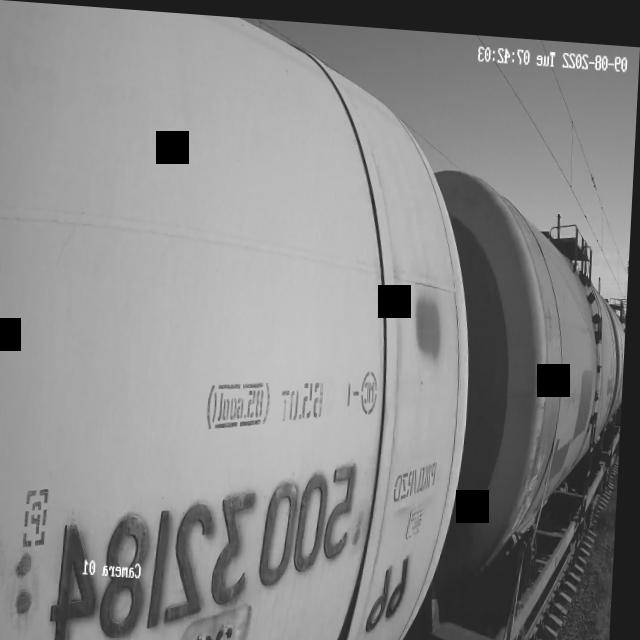tank: (0, 0, 494, 640), (416, 149, 631, 640)
